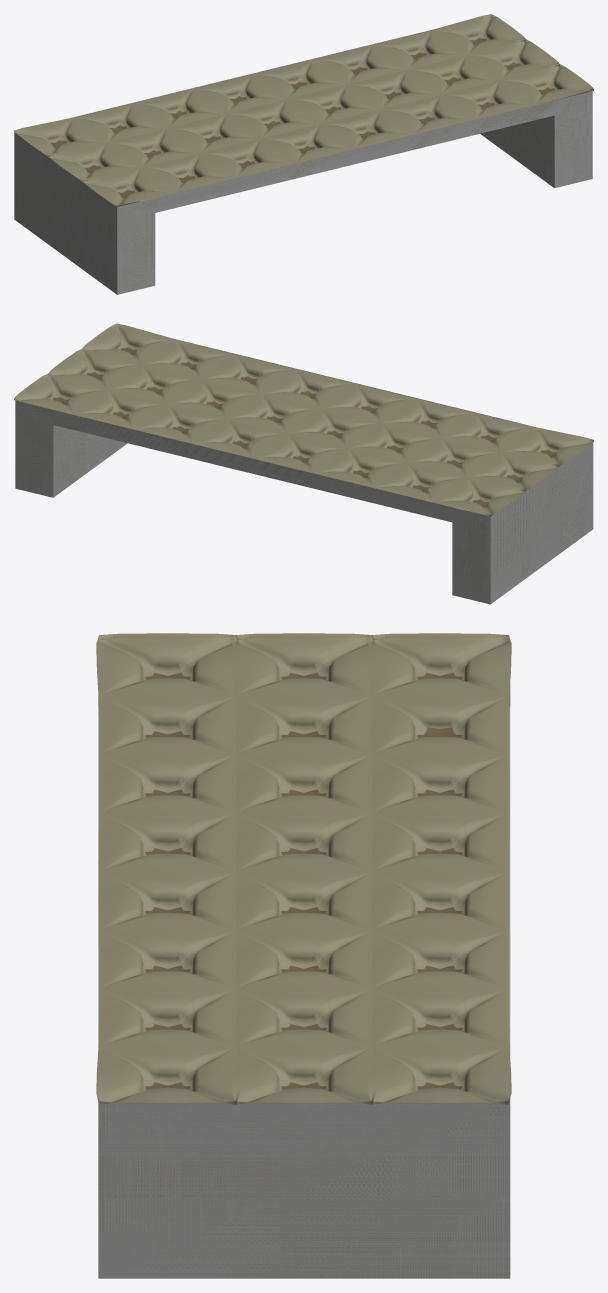
File: chair2.fbx
3 views of the same model, one above another, from view 1: azimuth 30°, elevation 25°; view 2: azimuth 150°, elevation 25°; view 3: azimuth 270°, elevation 25° (orthographic). The views are drawn at different scales.
Visible parts, largest first — view 1: polySurface18; view 2: polySurface18; view 3: polySurface18.
Boxes of the visible parts, x1,y1,x2,y2 form: polySurface18: (14, 14, 593, 294); polySurface18: (14, 323, 593, 604); polySurface18: (96, 633, 511, 1278).
Bounding box in the file's own units: 4.56 × 0.81 × 1.7.
